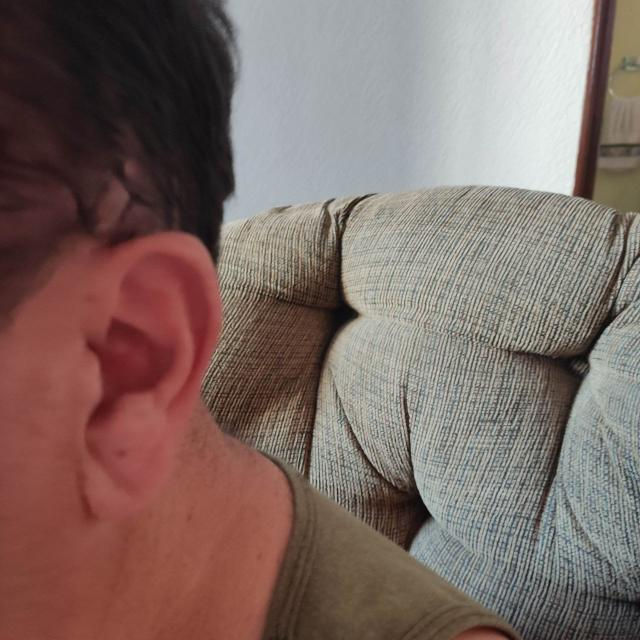ear: (79, 234, 222, 519)
